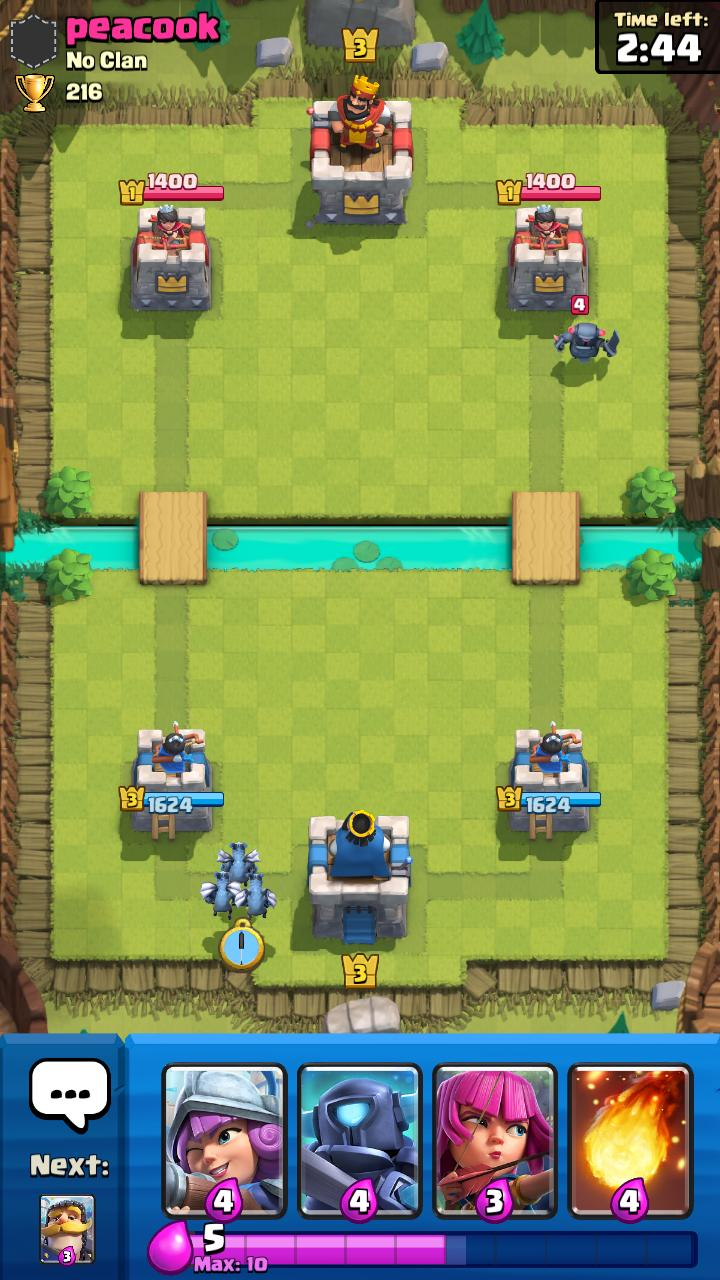ally: (216, 842, 261, 887), (235, 872, 277, 920), (200, 871, 241, 920)
enemy: (554, 295, 620, 363)
